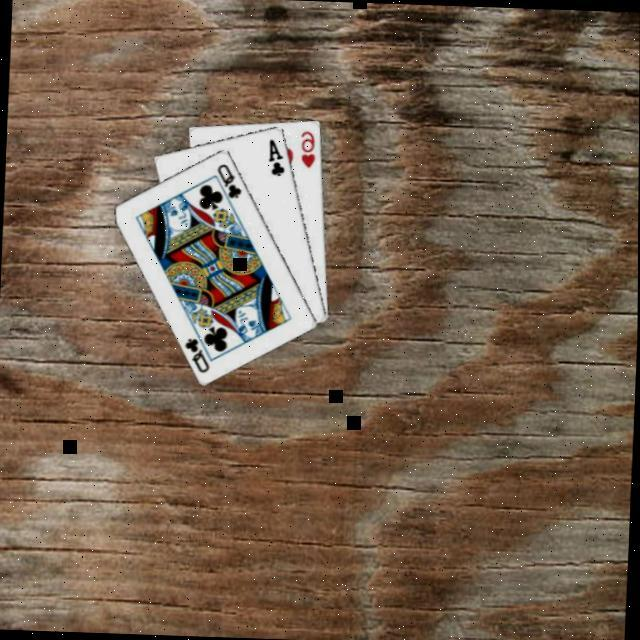6H: (298, 125, 319, 168)
AC: (266, 134, 288, 176)
QC: (182, 332, 215, 373), (214, 158, 246, 200)
